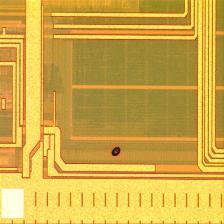PARTICLE: (111, 146, 123, 158)
